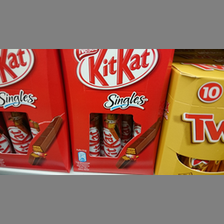chocolate: (59, 49, 170, 173), (1, 49, 68, 170), (159, 62, 224, 173)
